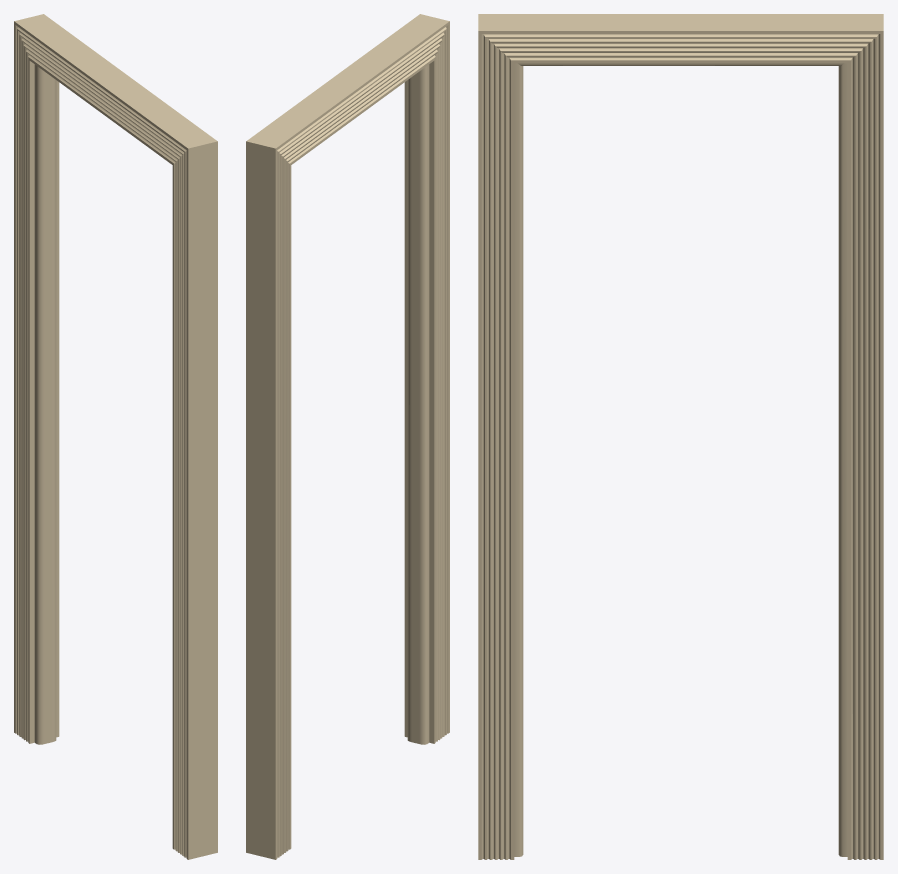
Rendered from 72_ROTTERDAM_Frame.glb.
3 views of the same model, side by side, from view 1: azimuth 30°, elevation 25°; view 2: azimuth 150°, elevation 25°; view 3: azimuth 270°, elevation 25° (orthographic). The views are drawn at different scales.
Parts seen in each view (by area): view 1: 72_ROTTERDAM_Frame; view 2: 72_ROTTERDAM_Frame; view 3: 72_ROTTERDAM_Frame.
Part boxes in pixels (x1,y1,x2,y2): 72_ROTTERDAM_Frame: (14,14,217,859); 72_ROTTERDAM_Frame: (246,14,449,859); 72_ROTTERDAM_Frame: (478,14,883,859).
Size of the model in its own units: 0.1014 by 2.32 by 1.03.
